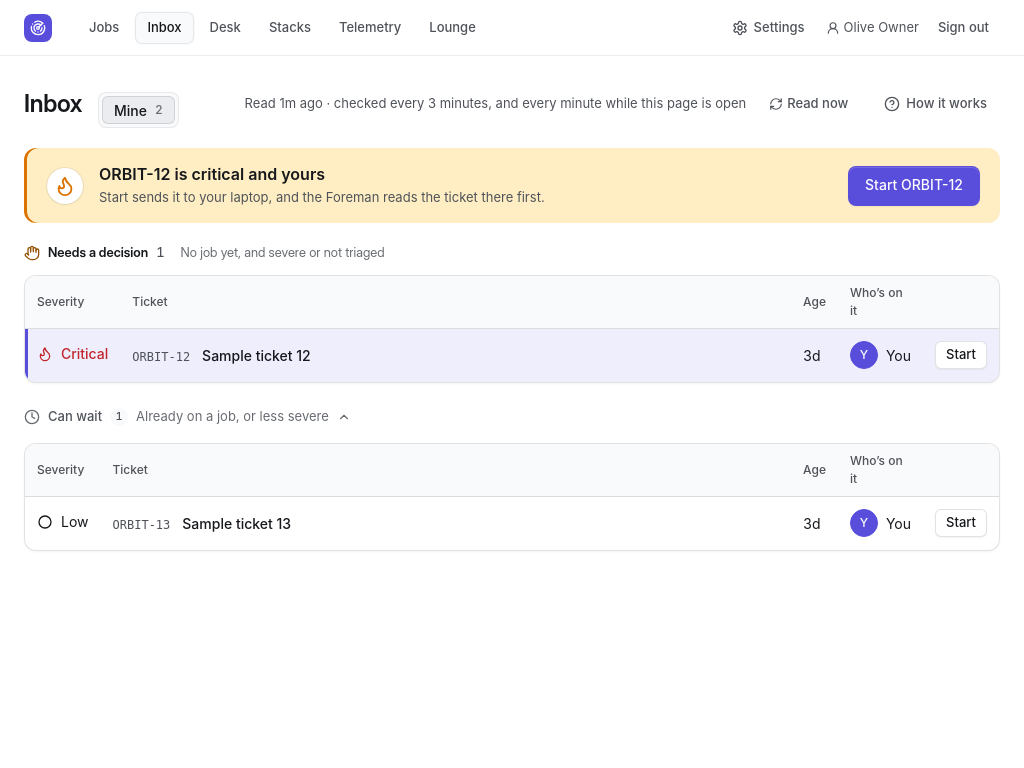
Test case: the hosted Inbox › the quick look shows what the site keeps, and says the links and timeline are on Orbit
Click the button "ORBIT-12 Sample ticket 12": click(161, 357) [132, 337, 779, 374]
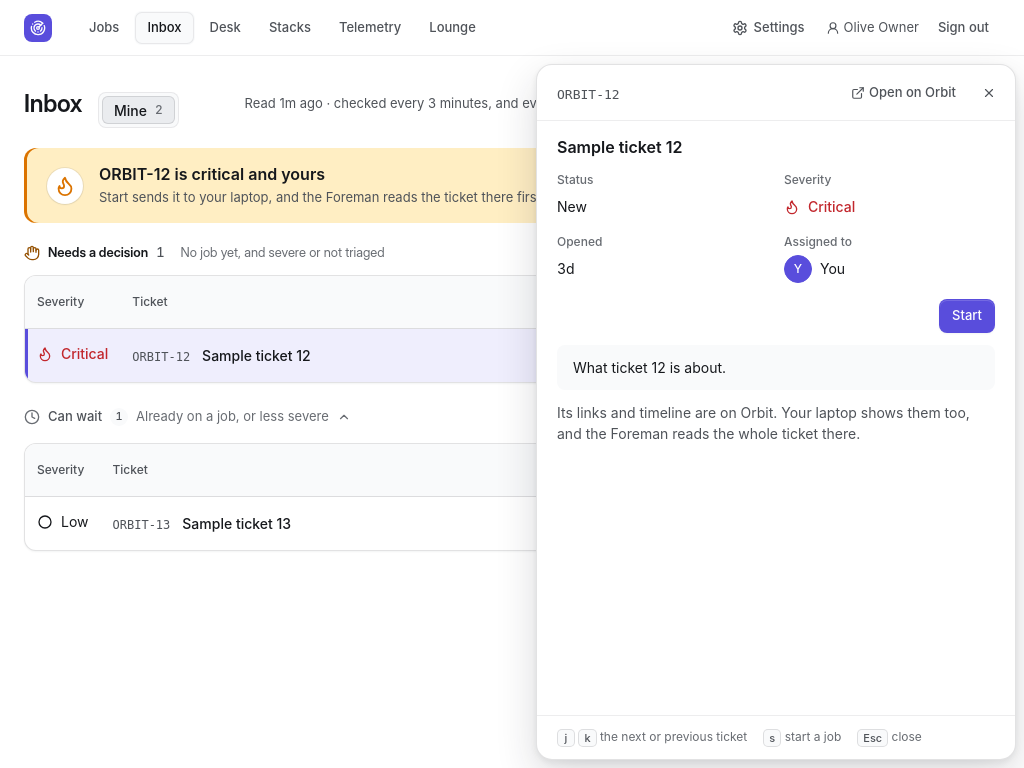
Check: the dialog named "ORBIT-12: Sample ticket 12" shows "What ticket 12 is about.", box [573, 359, 726, 376]
Check: the dialog named "ORBIT-12: Sample ticket 12" shows "Its links and timeline are on Orbit", box [557, 404, 970, 442]
